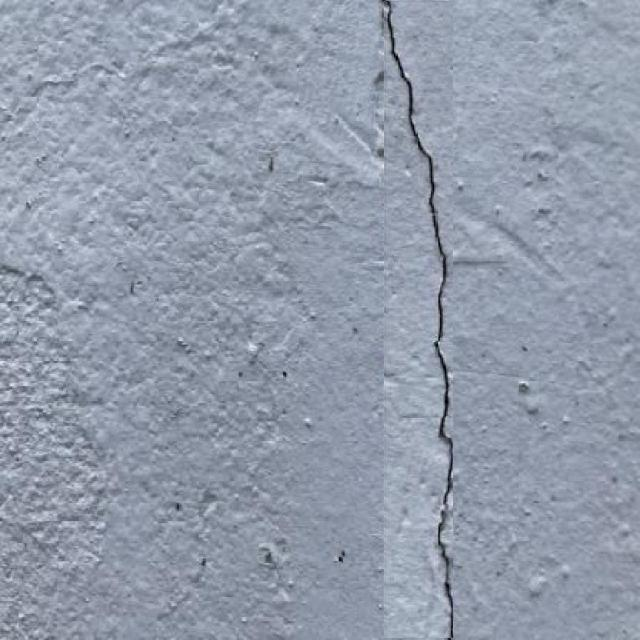Crack: (375, 0, 457, 639)
